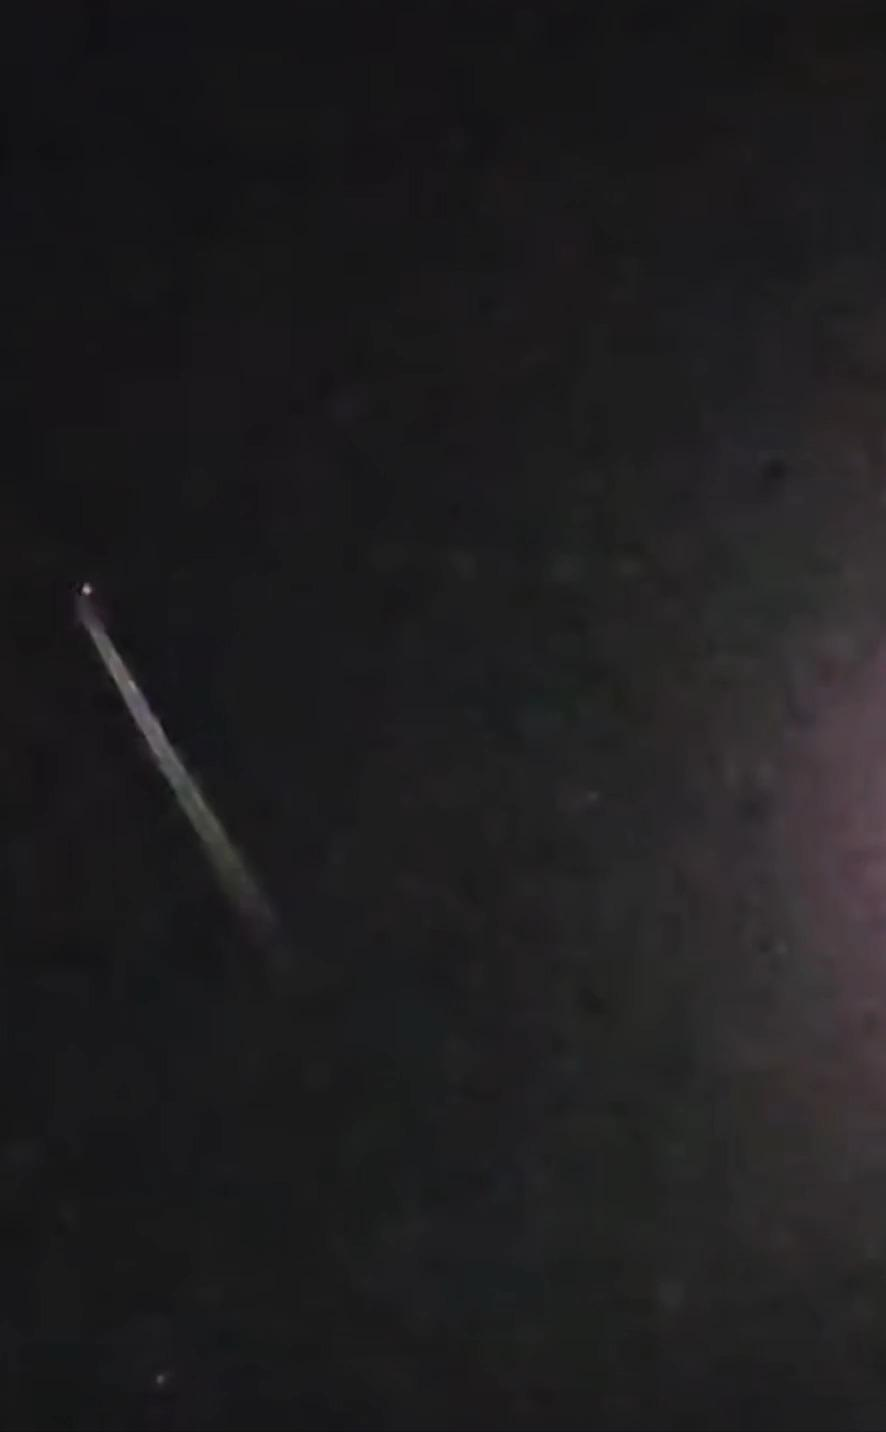Plane: (42, 557, 217, 799)
